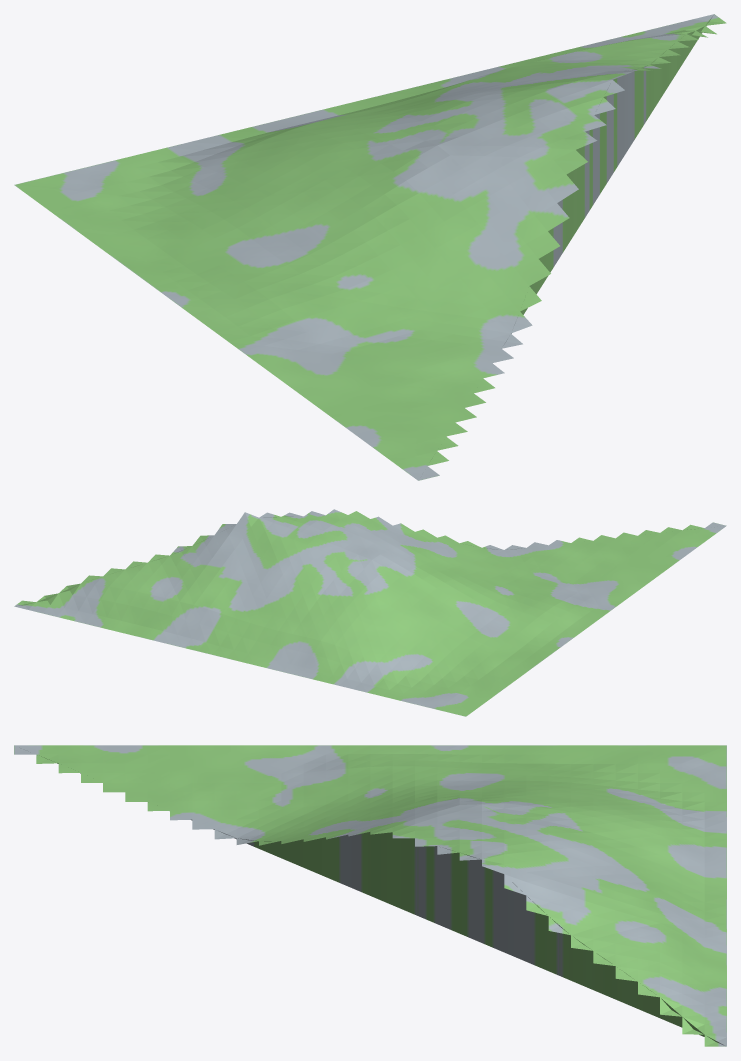
Rendered from Grass_RockyGround_12_SW.obj.
3 renders of one model, top to bottom at view 1: azimuth 30°, elevation 25°; view 2: azimuth 150°, elevation 25°; view 3: azimuth 270°, elevation 25°, orthographic. The views are drawn at different scales.
Size of the model in its own units: 10 by 1.34 by 10.
Materials: 1 (1 with a texture image).
